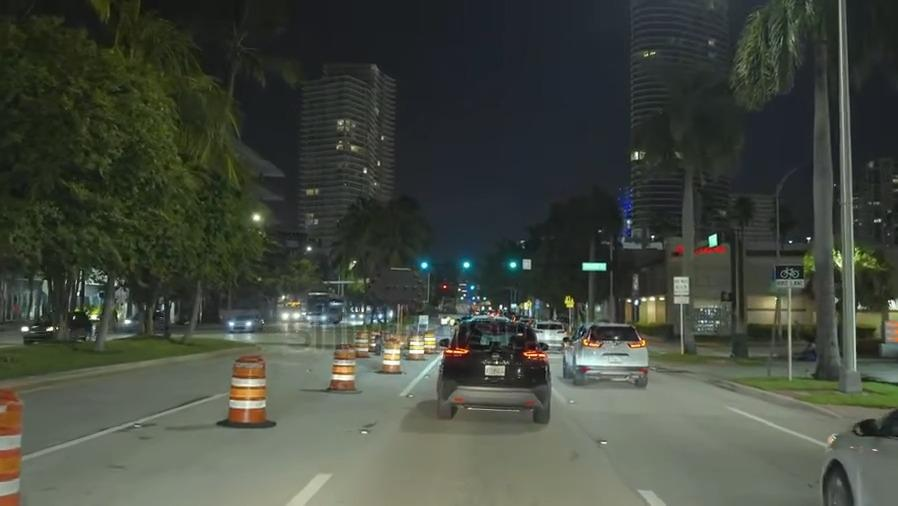bus: (298, 288, 345, 327), (281, 297, 302, 324)
car: (438, 318, 547, 424), (826, 403, 898, 506), (565, 319, 639, 388), (16, 309, 89, 343), (533, 316, 568, 351), (124, 306, 167, 333), (225, 309, 267, 333)
cone: (0, 374, 29, 506), (223, 352, 267, 423), (328, 338, 357, 389), (381, 334, 400, 376), (421, 328, 437, 355), (355, 327, 369, 357), (407, 331, 423, 356)
pedestrian: (654, 336, 714, 355)
traffic light: (412, 253, 437, 275), (457, 251, 476, 278), (501, 254, 520, 276)
wheel: (816, 462, 852, 506)
